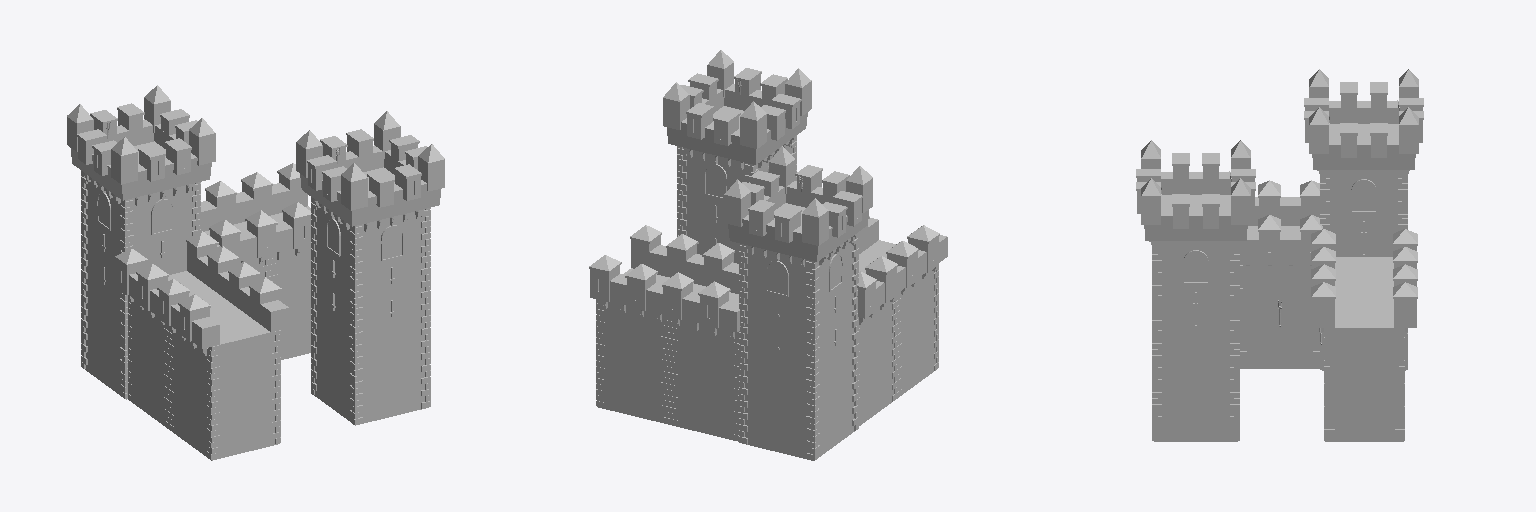
The model's file is CornerPiece.obj.
3 renders of one model, left to right at view 1: azimuth 30°, elevation 25°; view 2: azimuth 150°, elevation 25°; view 3: azimuth 270°, elevation 25°, orthographic.
Visible parts, largest first — view 1: Corner_Cube.010; view 2: Corner_Cube.010; view 3: Corner_Cube.010.
Boxes of the visible parts, x1=… form: Corner_Cube.010: x1=67, y1=85, x2=444, y2=460; Corner_Cube.010: x1=589, y1=50, x2=947, y2=460; Corner_Cube.010: x1=1136, y1=69, x2=1423, y2=441.
Size of the model in its own units: 13.74 by 13.91 by 13.74.